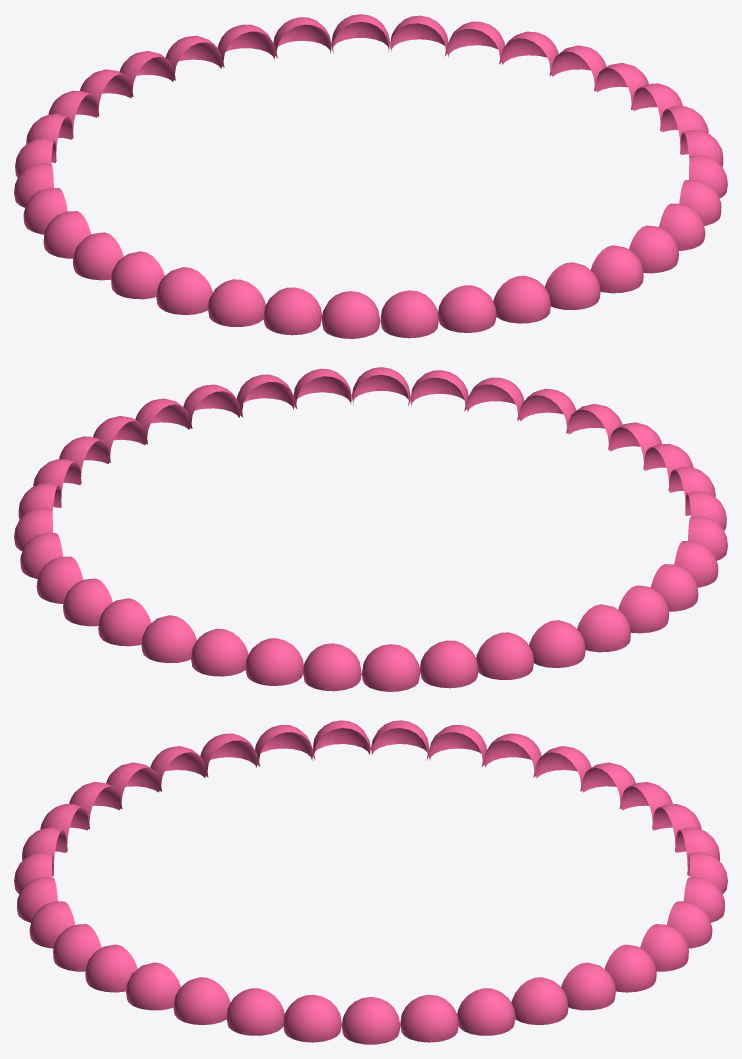
The model's file is Cake_Lrg_itemsSide_Pearls-A.FBX.
3 renders of one model, top to bottom at view 1: azimuth 30°, elevation 25°; view 2: azimuth 150°, elevation 25°; view 3: azimuth 270°, elevation 25°, orthographic.
Visible parts, largest first — view 1: Cake_Lrg_itemsSide_Pearls-A; view 2: Cake_Lrg_itemsSide_Pearls-A; view 3: Cake_Lrg_itemsSide_Pearls-A.
Part boxes in pixels (x1,y1,x2,y2): Cake_Lrg_itemsSide_Pearls-A: (14, 14, 727, 338); Cake_Lrg_itemsSide_Pearls-A: (14, 367, 727, 691); Cake_Lrg_itemsSide_Pearls-A: (14, 720, 727, 1044).
Size of the model in its own units: 10312 by 531 by 10322.
